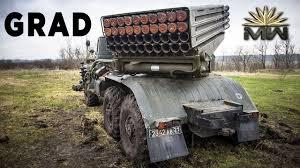MIL_SAM_TEL: (81, 3, 259, 162)
